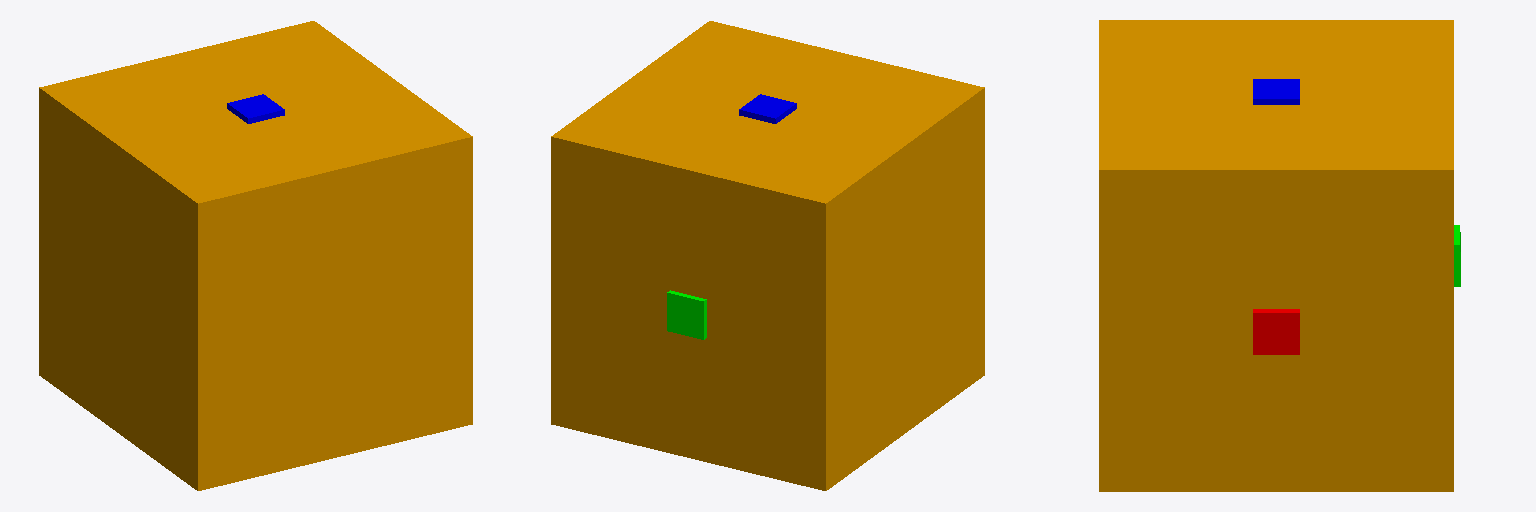
URDF robot description (object):
<?xml version="1.0"?>
<robot name="object">
  <link name="object">
    <visual>
      <origin xyz="0 0 0"/>
      <geometry>
        <box size="0.075 0.075 0.075"/>
      </geometry>
    </visual>

    <visual>
      <origin xyz="0 0 0.0375" />
      <geometry>
          <box size="0.01 0.01 0.003" />
      </geometry>
      <material name="object_marker_material_z">
          <color
              rgba="0.0 0.0 1.0 0.6" />
      </material>
    </visual>

    <visual>
        <origin xyz="0 0.0375 0" rpy="1.5808 0.0 0.0" />
        <geometry>
            <box size="0.01 0.01 0.003" />
        </geometry>
        <material name="object_marker_material_y">
            <color
                rgba="0.0 1.0 0.0 0.6" />
        </material>
    </visual>

    <visual>
        <origin xyz="0.0375 0 0" rpy="0.0 1.5808 0.0" />
        <geometry>
            <box size="0.01 0.01 0.003" />
        </geometry>
        <material name="object_marker_material_x">
            <color
                rgba="1.0 0.0 0.0 0.6" />
        </material>
    </visual>

    <collision>
      <origin xyz="0 0 0"/>
      <geometry>
        <box size="0.075 0.075 0.075"/>
      </geometry>
    </collision>

    <inertial>
      <mass value="0.05" />
      <inertia ixx="0.0001" ixy="0.0" ixz="0.0" iyy="0.0001" iyz="0.0" izz="0.0001"/>
    </inertial>
  </link>
</robot>

--- What the picture shows (computed from the rendered views, not written in the file) ---
The picture shows the robot from 3 angles, left to right: view 1: azimuth 30°, elevation 25°; view 2: azimuth 150°, elevation 25°; view 3: azimuth 270°, elevation 25°; orthographic projection.
Robot: object — 1 links, 0 joints (none); root link object; default pose: all joints at 0.
Links seen in each view (by area): view 1: object; view 2: object; view 3: object.
Link boxes in pixels (<box>): object: <box>39,21,472,490</box>; object: <box>551,21,984,490</box>; object: <box>1099,20,1460,491</box>.
Bounding box of the posed robot: 0.0765 × 0.0765 × 0.0765 m (x, y, z).
Geometry: primitives only (box / cylinder / sphere), no mesh files.
